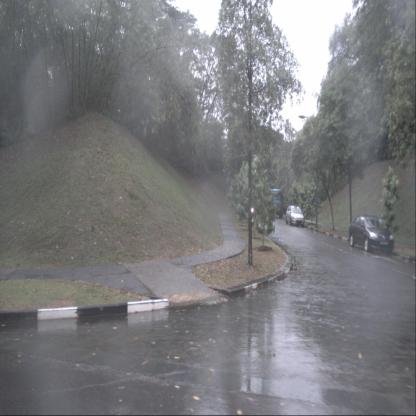vehicle-car: (349, 215, 394, 255), (286, 206, 304, 227)
vehicle-truck: (268, 188, 283, 218)
